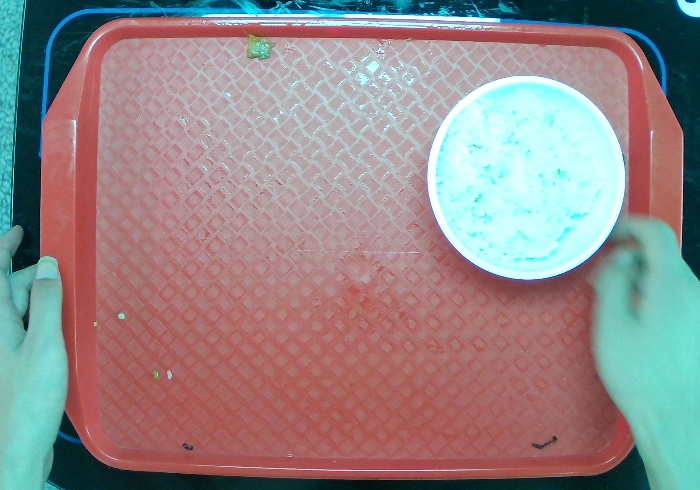YKMZ-Fan_Wan: (417, 71, 636, 285)
